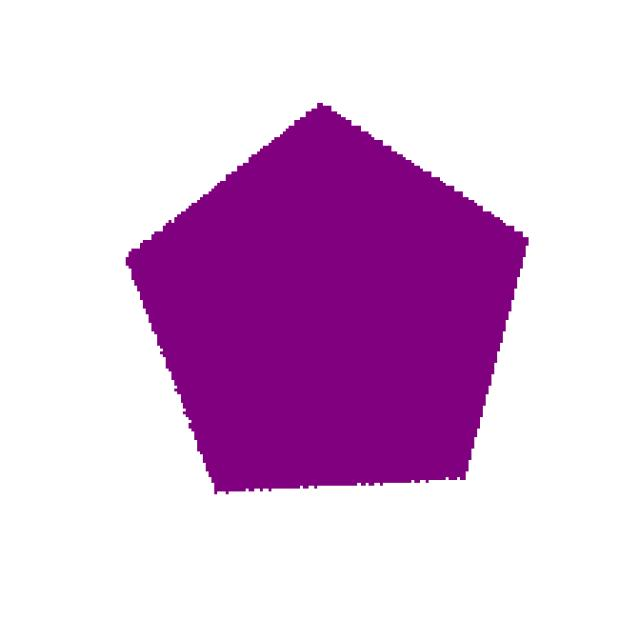Pentagon: (87, 60, 563, 536)
